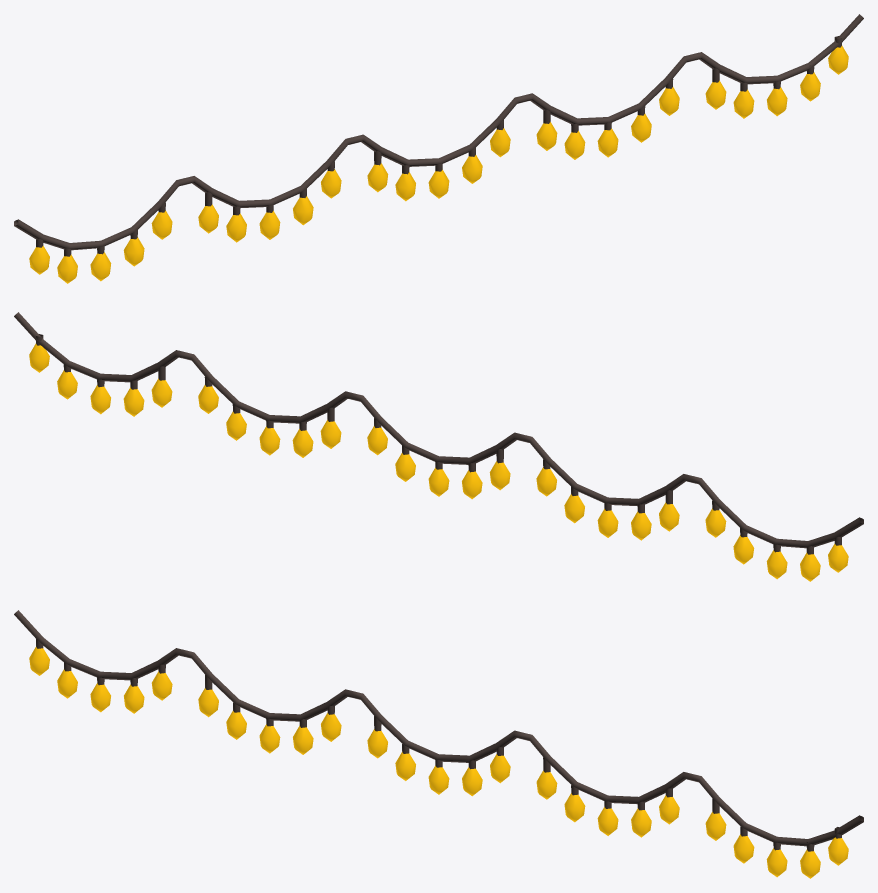
The model's file is Garland_001.glb.
The picture shows the model from 3 angles, top to bottom: view 1: azimuth 30°, elevation 25°; view 2: azimuth 150°, elevation 25°; view 3: azimuth 330°, elevation 25°; orthographic projection.
Visible parts, largest first — view 1: Garland_001; view 2: Garland_001; view 3: Garland_001.
Boxes of the visible parts, x1,y1,x2,y2 form: Garland_001: [14, 14, 863, 283]; Garland_001: [14, 312, 863, 581]; Garland_001: [14, 610, 863, 878].
Size of the model in its own units: 5.69 by 0.5306 by 0.1148.
2 materials, 2 textured.
